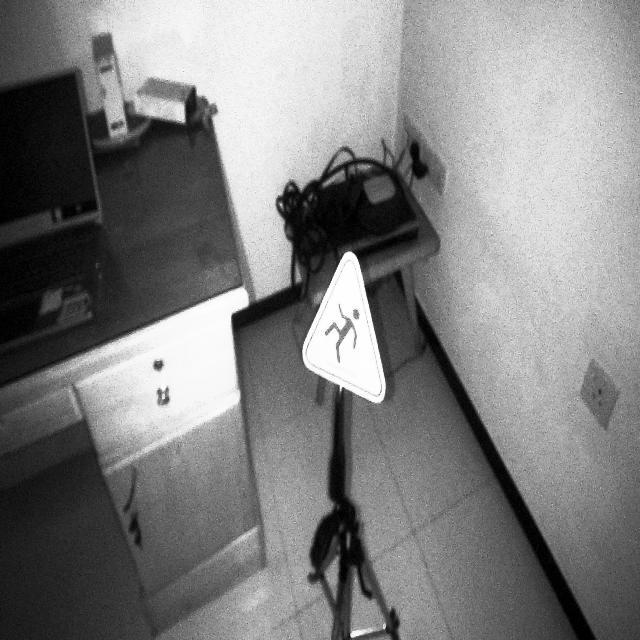Sign: (301, 251, 388, 406)
